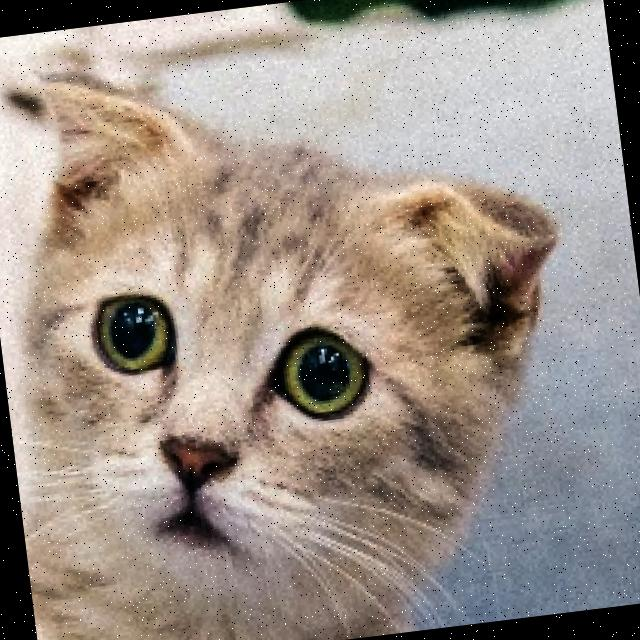Sad: (31, 178, 428, 613)
